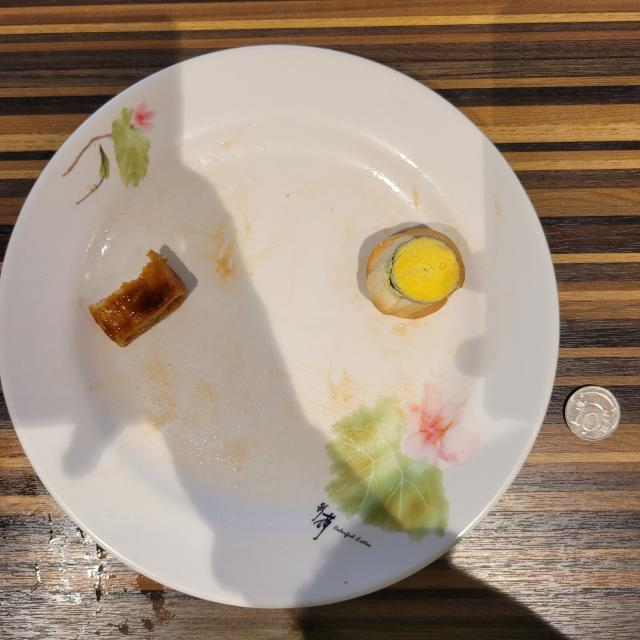coin: (565, 386, 620, 440)
creamy tofu: (89, 250, 188, 346)
soy egg: (366, 229, 465, 319)
